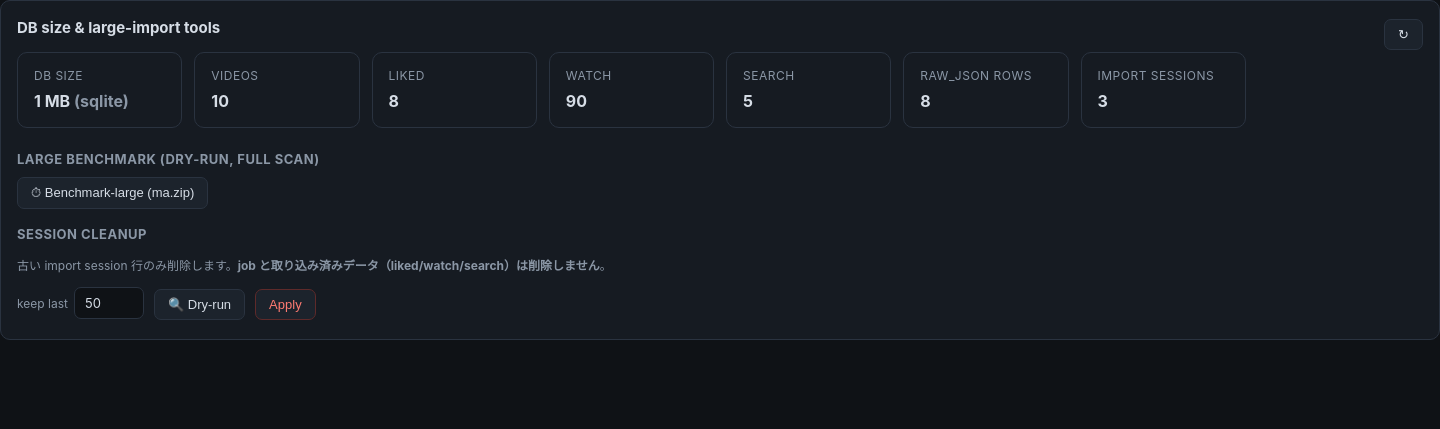
it: Phase 6E DB stats + cleanup › benchmark-large renders per-kind eps/peak/estimate
Expected: the heading "DB size & large-import tools" is shown, [17,17,220,40]
Click the button "⏱ Benchmark-large (ma.zip)".
click(113, 193)  # box [17,177,208,209]
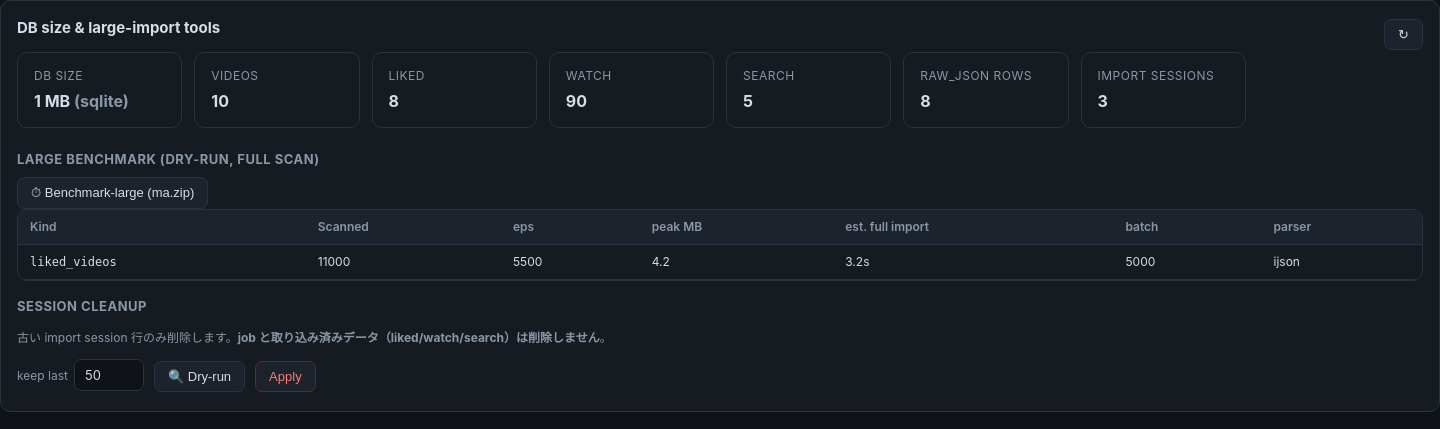
Expected: the text "5500" is shown, [501,244,640,280]
Expected: the text "4.2" is shown, [640,244,833,280]
